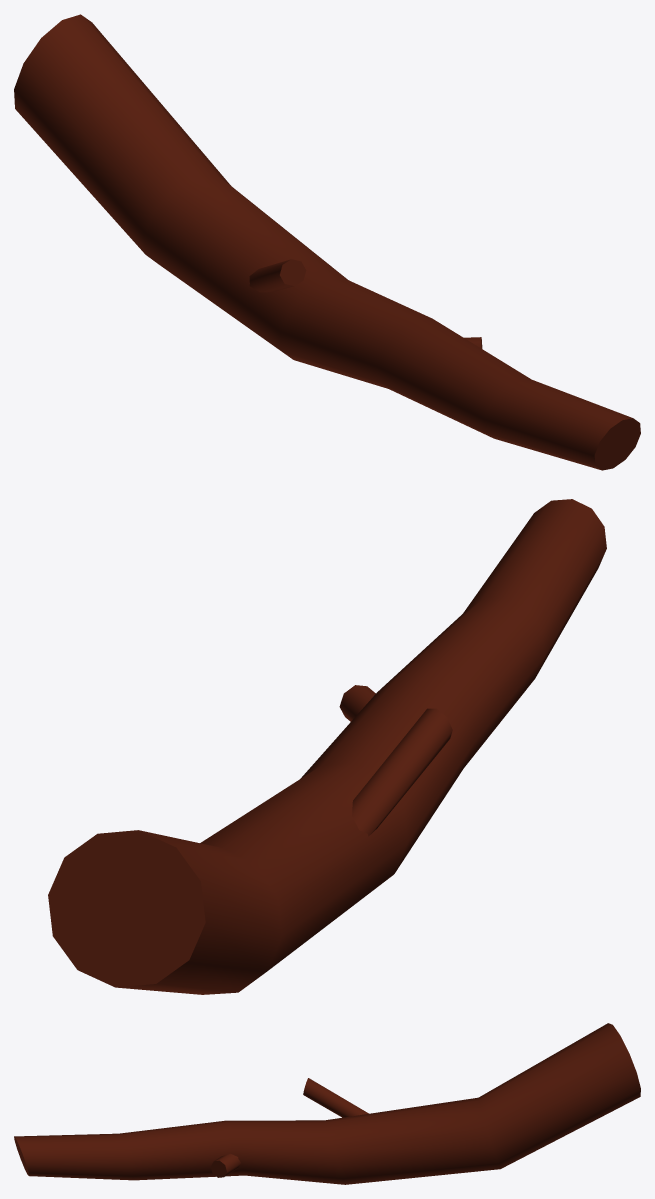
The picture shows the model from 3 angles, top to bottom: view 1: azimuth 30°, elevation 25°; view 2: azimuth 150°, elevation 25°; view 3: azimuth 270°, elevation 25°; orthographic projection. The views are drawn at different scales.
Visible parts, largest first — view 1: root_05; view 2: root_05; view 3: root_05.
Boxes of the visible parts, box(x1,y1,x2,y2) form: root_05: box(14, 14, 640, 470); root_05: box(48, 499, 606, 994); root_05: box(14, 1023, 640, 1184).
Size of the model in its own units: 41.72 by 41.98 by 170.
